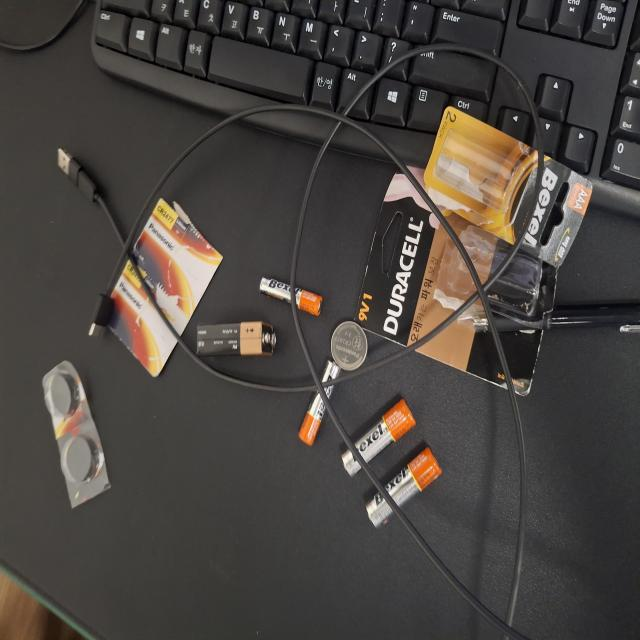9V: (240, 487, 268, 589)
AA: (336, 263, 401, 368), (298, 298, 358, 398)
AAA: (267, 398, 336, 456), (206, 423, 236, 509)
COIN: (240, 362, 280, 412)
